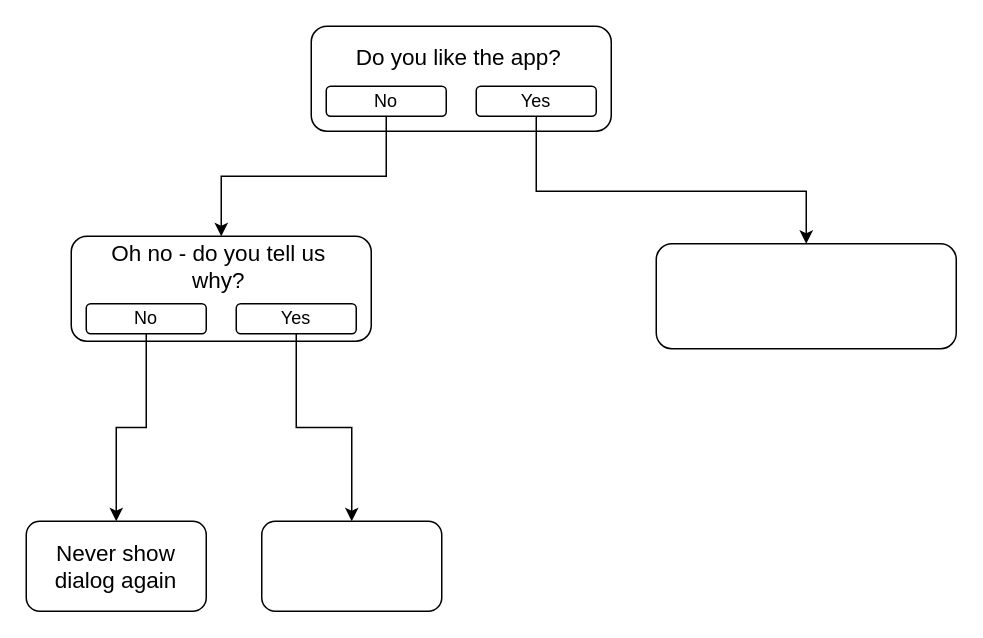
This 983x638 diagram has some shape labels left out. The shapes that lost their labels are listed below. From the top down, each one's centre as x and y in pixels, then its label:
pixel 805 295: Show App Store Rating Dialog and never show dialog again
pixel 351 565: open mail app and never show dialog again
